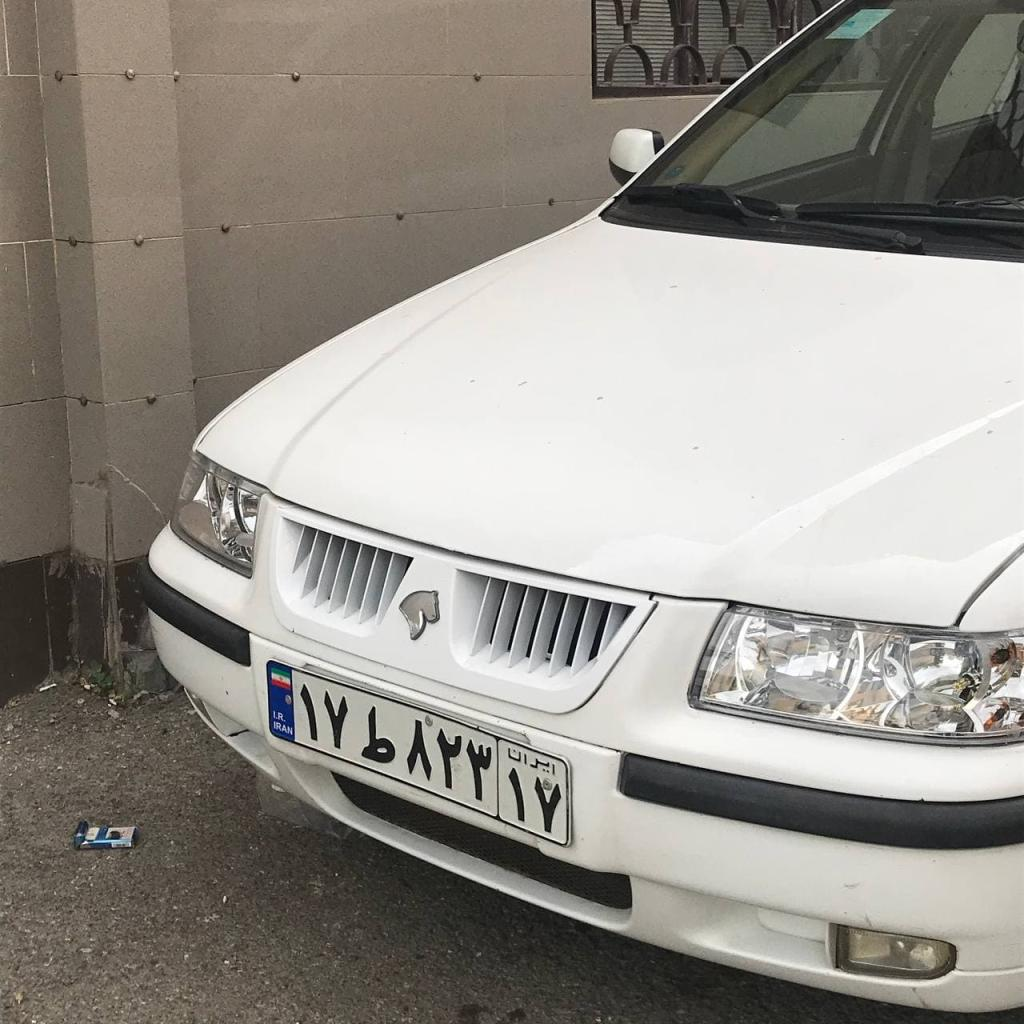Plates: (267, 662, 568, 847)
